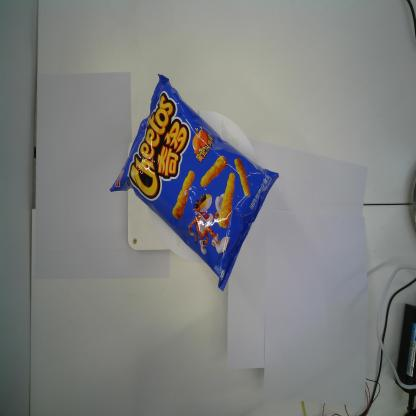Puffed Food: (110, 74, 280, 292)
